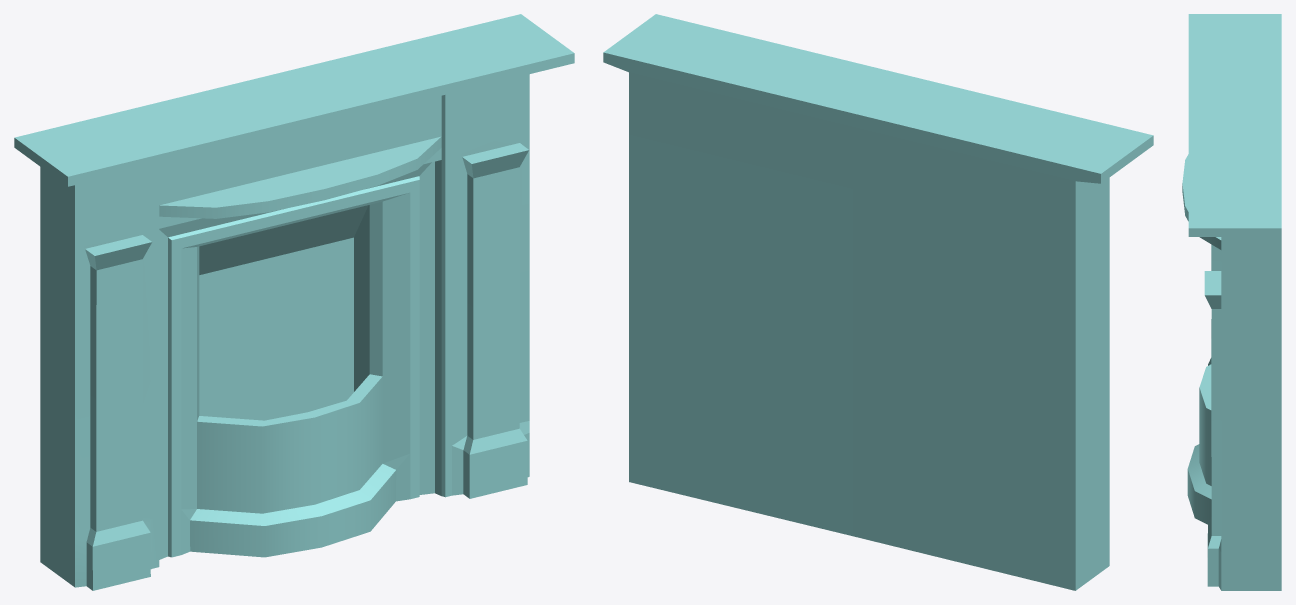
Rendered from FirePlace.fbx.
3 renders of one model, left to right at view 1: azimuth 30°, elevation 25°; view 2: azimuth 150°, elevation 25°; view 3: azimuth 270°, elevation 25°, orthographic. The views are drawn at different scales.
Visible parts, largest first — view 1: fireplace_OBJ; view 2: fireplace_OBJ; view 3: fireplace_OBJ.
Part boxes in pixels (box(x1,y1,x2,y2)): fireplace_OBJ: box(14, 14, 574, 590); fireplace_OBJ: box(603, 14, 1153, 590); fireplace_OBJ: box(1182, 14, 1281, 590).
Bounding box in the file's own units: 169 × 138 × 32.97.
